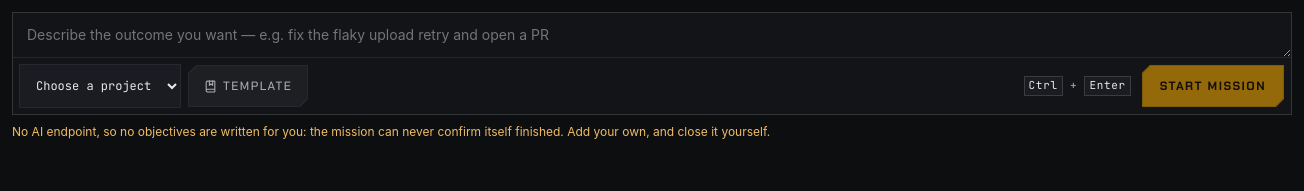
Test: the server's own refusal reaches the operator, not a generic failure
The image size is (1304, 191).
Type "x" into the text box with test id "new-mission-instruction" at (652, 35), box [13,13,1291,57]
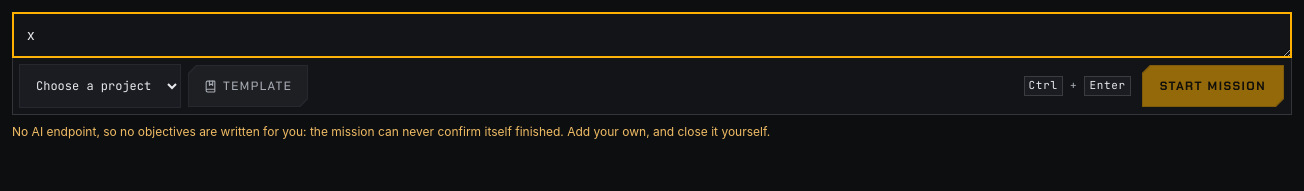
Select "battlelab" in the dropdown with test id "new-mission-project" at (100, 86), box [19,64,181,108]
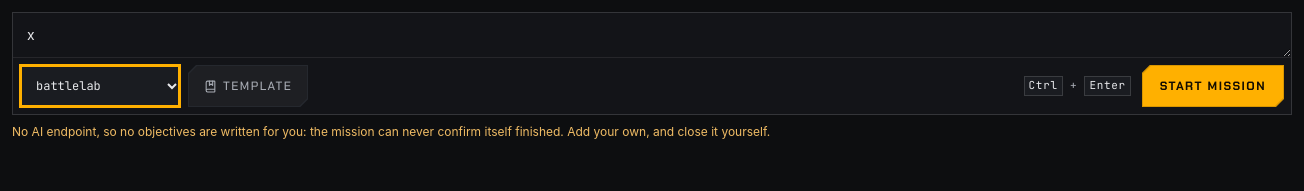
Click the button with test id "new-mission-start" at (1213, 86), box [1141,64,1285,108]
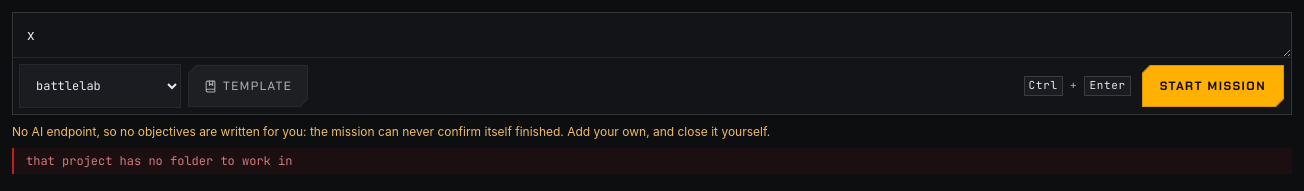
Check: the message with test id "new-mission-error" reads "that project has no folder to work in", box [26,153,292,169]
